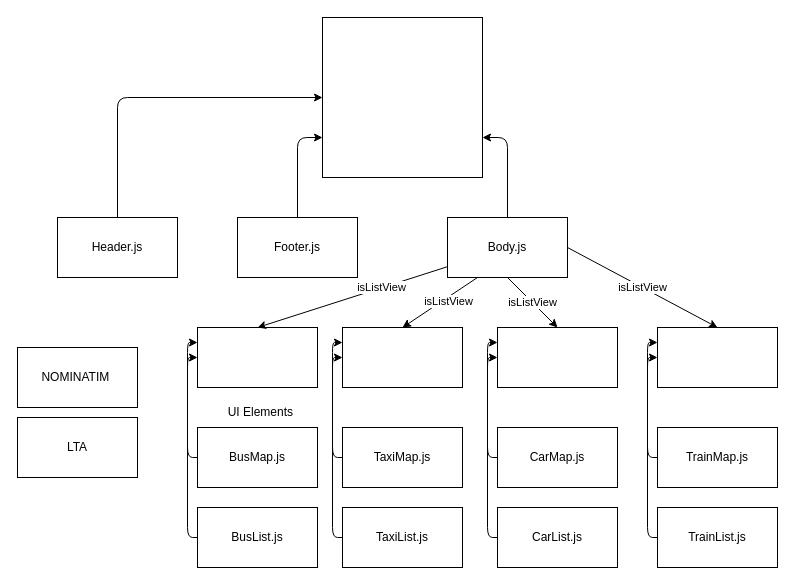
Image size: 795x585. Some labels were removed from this diagram. The centre of each missing label's shape, as x and y in pixels:
Bus.js: the point at 257,357
Car.js: the point at 557,357
index.js: the point at 402,97
Taxi.js: the point at 402,357
Train.js: the point at 717,357
